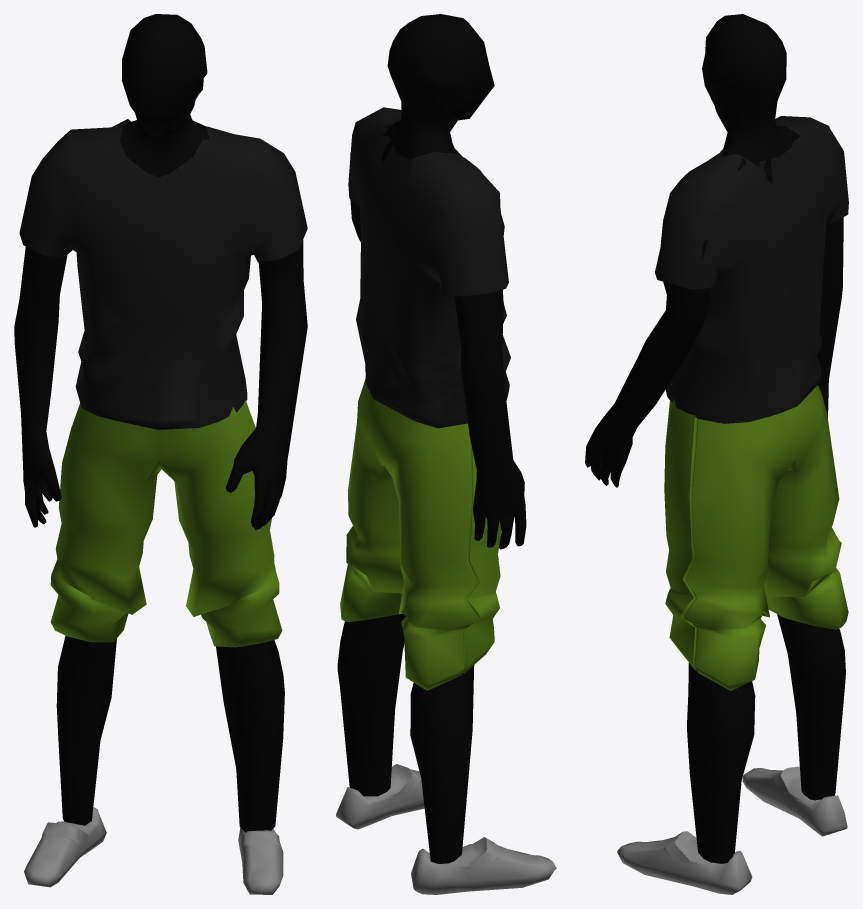
File: Maneken_2.FBX
3 renders of one model, left to right at view 1: azimuth 30°, elevation 25°; view 2: azimuth 150°, elevation 25°; view 3: azimuth 270°, elevation 25°, orthographic. The views are drawn at different scales.
Visible parts, largest first — view 1: Maneken3; view 2: Maneken3; view 3: Maneken3.
Part boxes in pixels (left/top/right/bottom): Maneken3: left=14, top=14, right=307, bottom=894; Maneken3: left=336, top=14, right=556, bottom=894; Maneken3: left=585, top=14, right=848, bottom=894.
Size of the model in its own units: 51.12 by 169 by 48.79.
